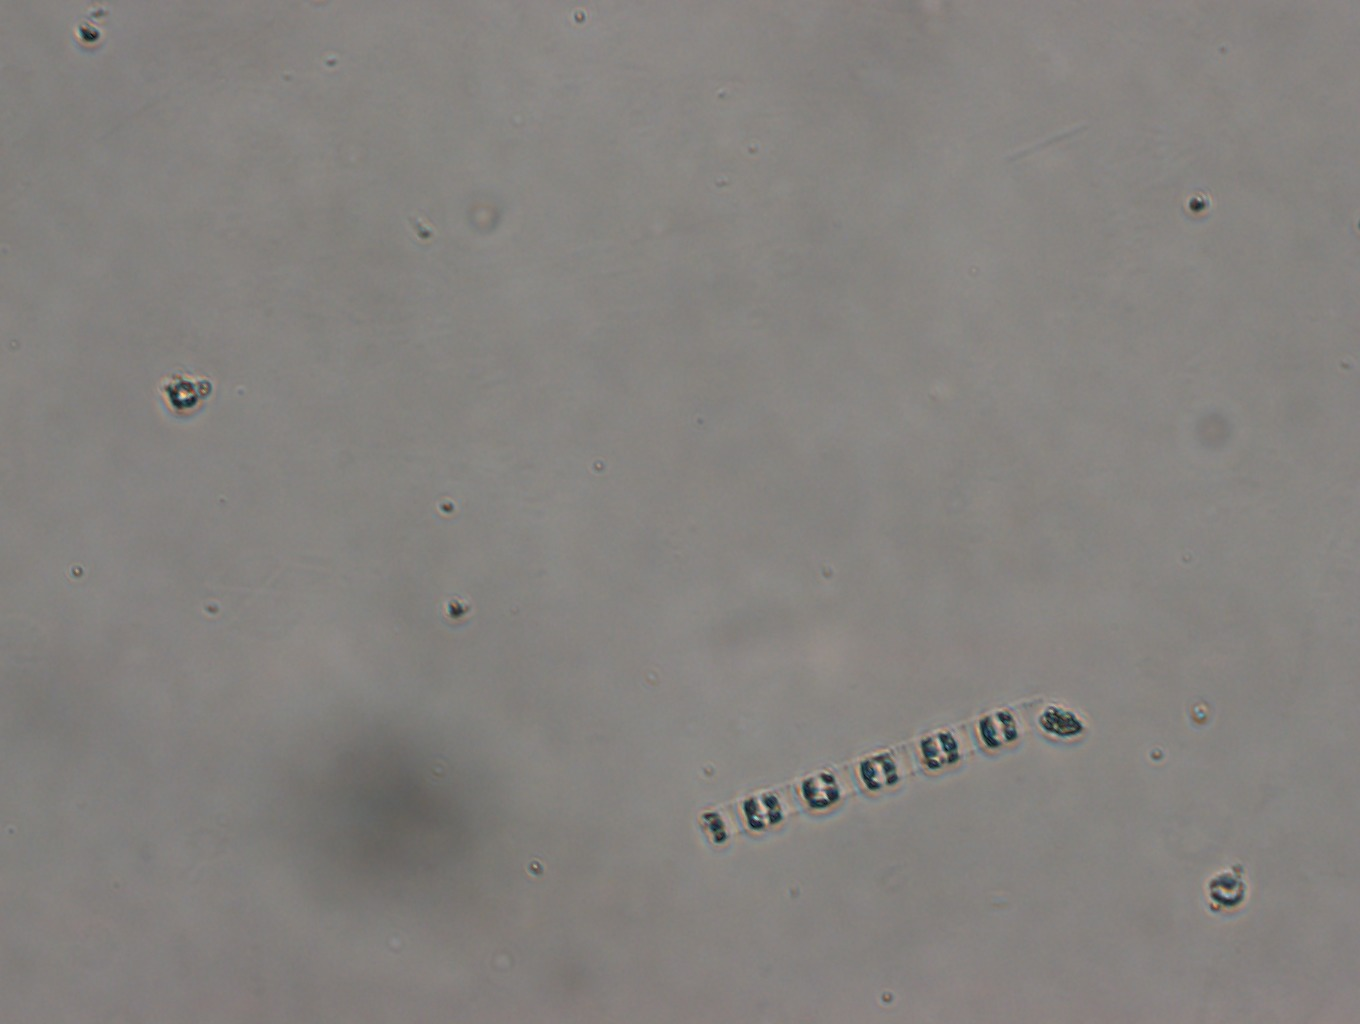skeletonema: (695, 695, 1044, 852)
